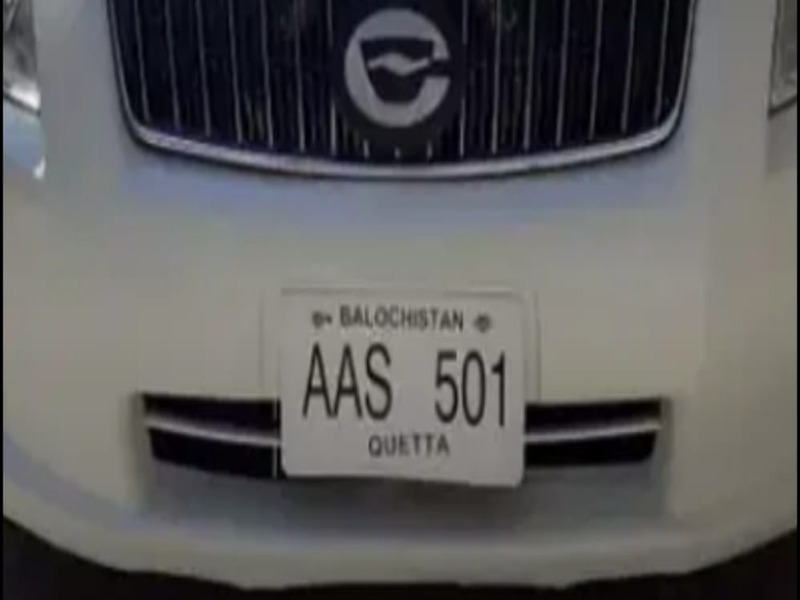License Plate: (276, 282, 525, 483)
